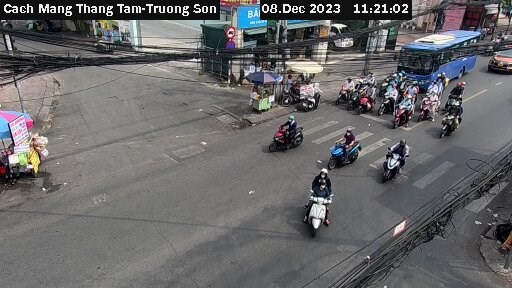bus: (392, 29, 487, 81)
car: (490, 44, 512, 71)
motorbike: (268, 115, 320, 162), (297, 179, 340, 235), (380, 138, 417, 183), (327, 131, 370, 169), (437, 109, 469, 132), (391, 99, 418, 125), (444, 84, 468, 110), (355, 87, 377, 111), (333, 76, 354, 100), (379, 88, 397, 115), (423, 81, 443, 105), (299, 92, 324, 111)
